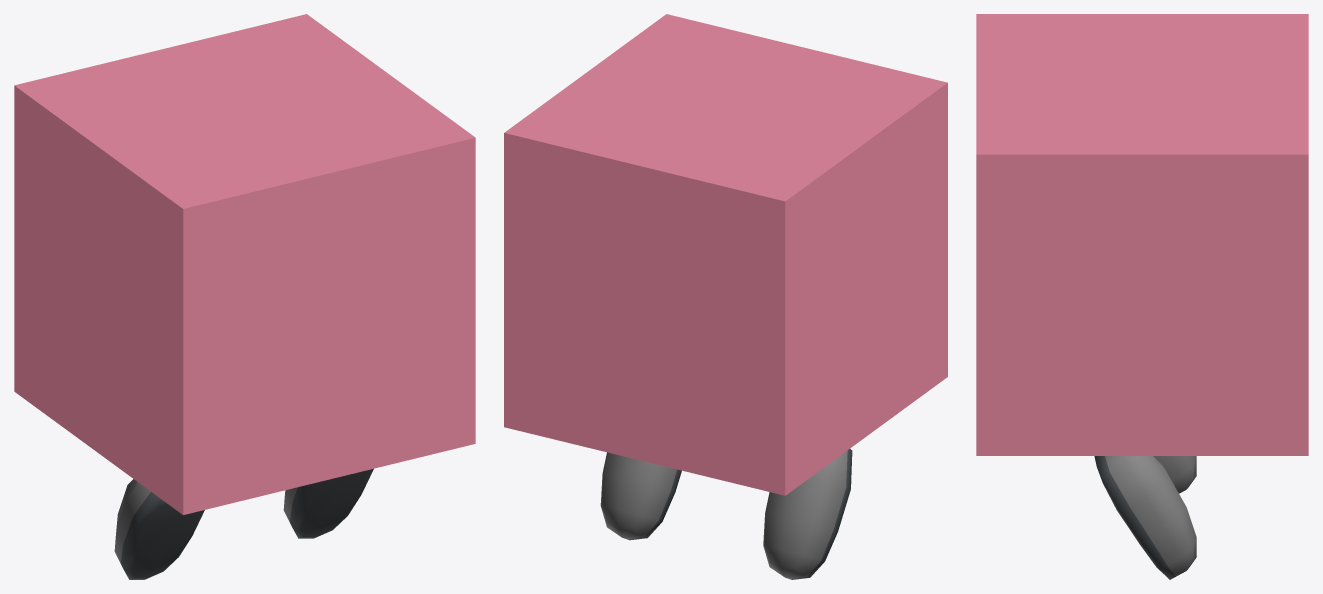
File: Cube_ghost_export.fbx
3 views of the same model, side by side, from view 1: azimuth 30°, elevation 25°; view 2: azimuth 150°, elevation 25°; view 3: azimuth 270°, elevation 25° (orthographic). The views are drawn at different scales.
Visible parts, largest first — view 1: Cube_ghost; view 2: Cube_ghost; view 3: Cube_ghost.
Part boxes in pixels (x1,y1,x2,y2): Cube_ghost: (14, 14, 475, 579); Cube_ghost: (504, 14, 947, 579); Cube_ghost: (976, 14, 1308, 579).
Bounding box in the file's own units: 200 × 300 × 200.
